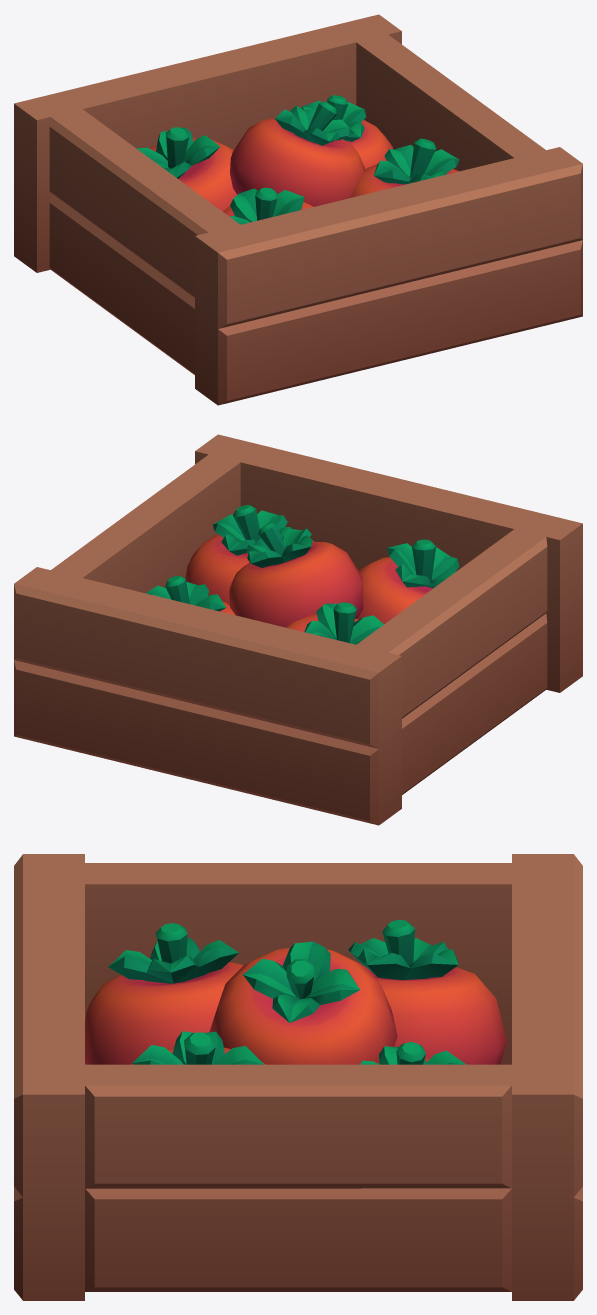
The model's file is crate_tomatoes.glb.
The picture shows the model from 3 angles, top to bottom: view 1: azimuth 30°, elevation 25°; view 2: azimuth 150°, elevation 25°; view 3: azimuth 270°, elevation 25°; orthographic projection. The views are drawn at different scales.
Parts seen in each view (by area): view 1: crate_tomatoes; view 2: crate_tomatoes; view 3: crate_tomatoes.
Boxes of the visible parts, bbox=[...] form: crate_tomatoes: bbox=[14, 14, 582, 405]; crate_tomatoes: bbox=[14, 434, 582, 825]; crate_tomatoes: bbox=[14, 854, 582, 1300].
Bounding box in the file's own units: 2 × 0.9233 × 2.
1 material, 1 textured.
